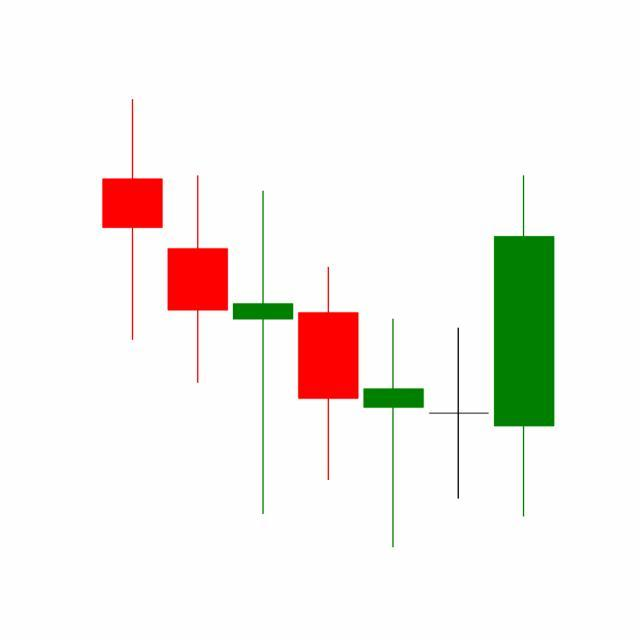Hikkake Pattern: (229, 171, 555, 549)
